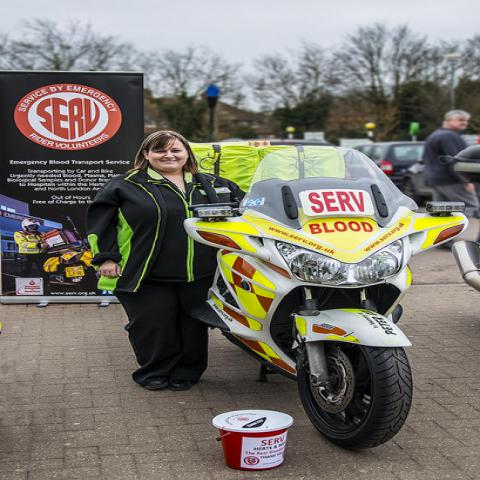car: (354, 140, 426, 192)
motorcycle: (183, 146, 471, 452), (440, 145, 479, 294)
